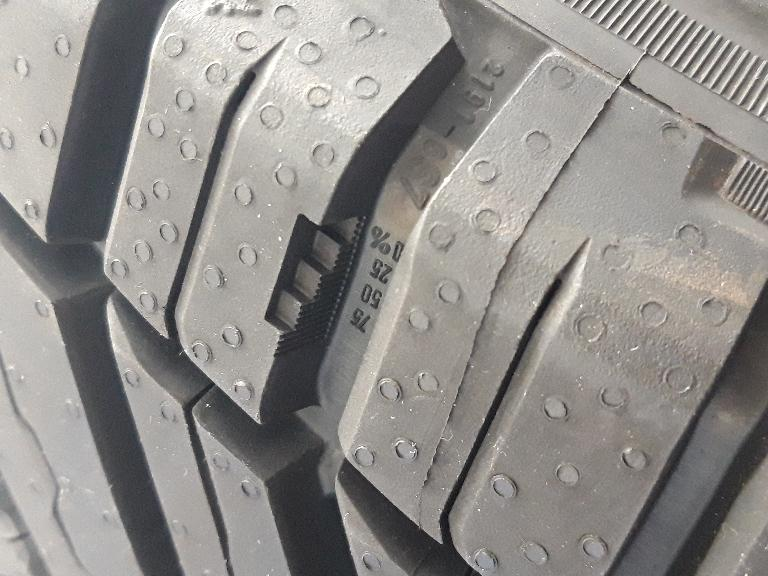temoin:100: (259, 210, 375, 362)
